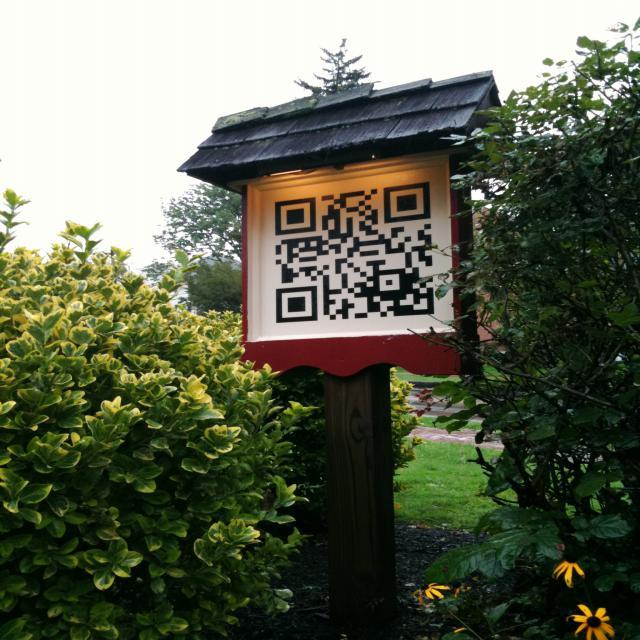qrcode: (276, 183, 435, 323)
